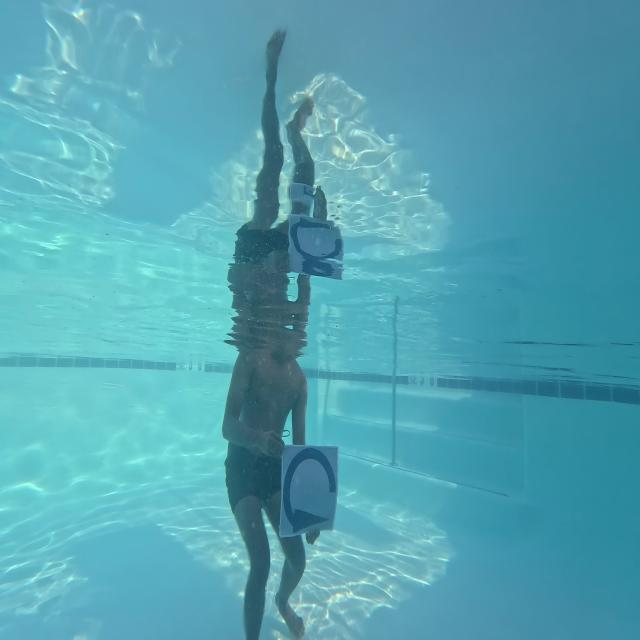blue_side: (280, 437, 340, 539)
